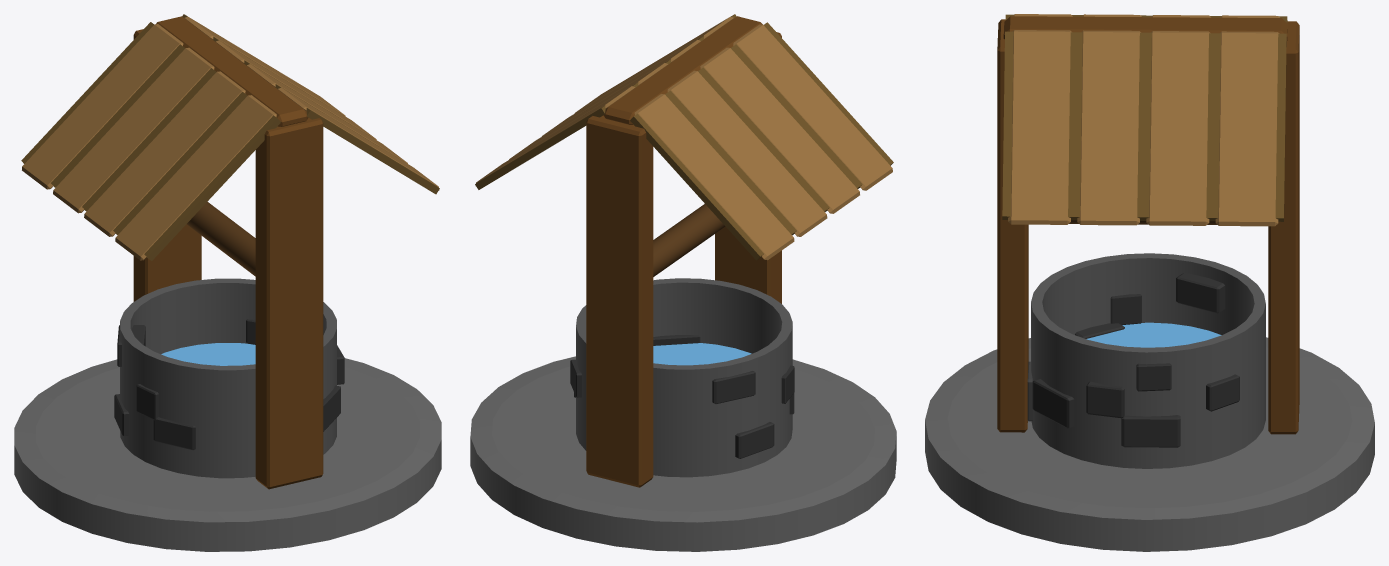
The model's file is Well.fbx.
The picture shows the model from 3 angles, left to right: view 1: azimuth 30°, elevation 25°; view 2: azimuth 150°, elevation 25°; view 3: azimuth 270°, elevation 25°; orthographic projection. The views are drawn at different scales.
Parts seen in each view (by area): view 1: Sheriff; view 2: Sheriff; view 3: Sheriff.
Boxes of the visible parts, x1,y1,x2,y2 form: Sheriff: [14, 14, 441, 551]; Sheriff: [470, 14, 896, 551]; Sheriff: [925, 14, 1374, 551].
Size of the model in its own units: 72.82 by 74.34 by 70.17.
